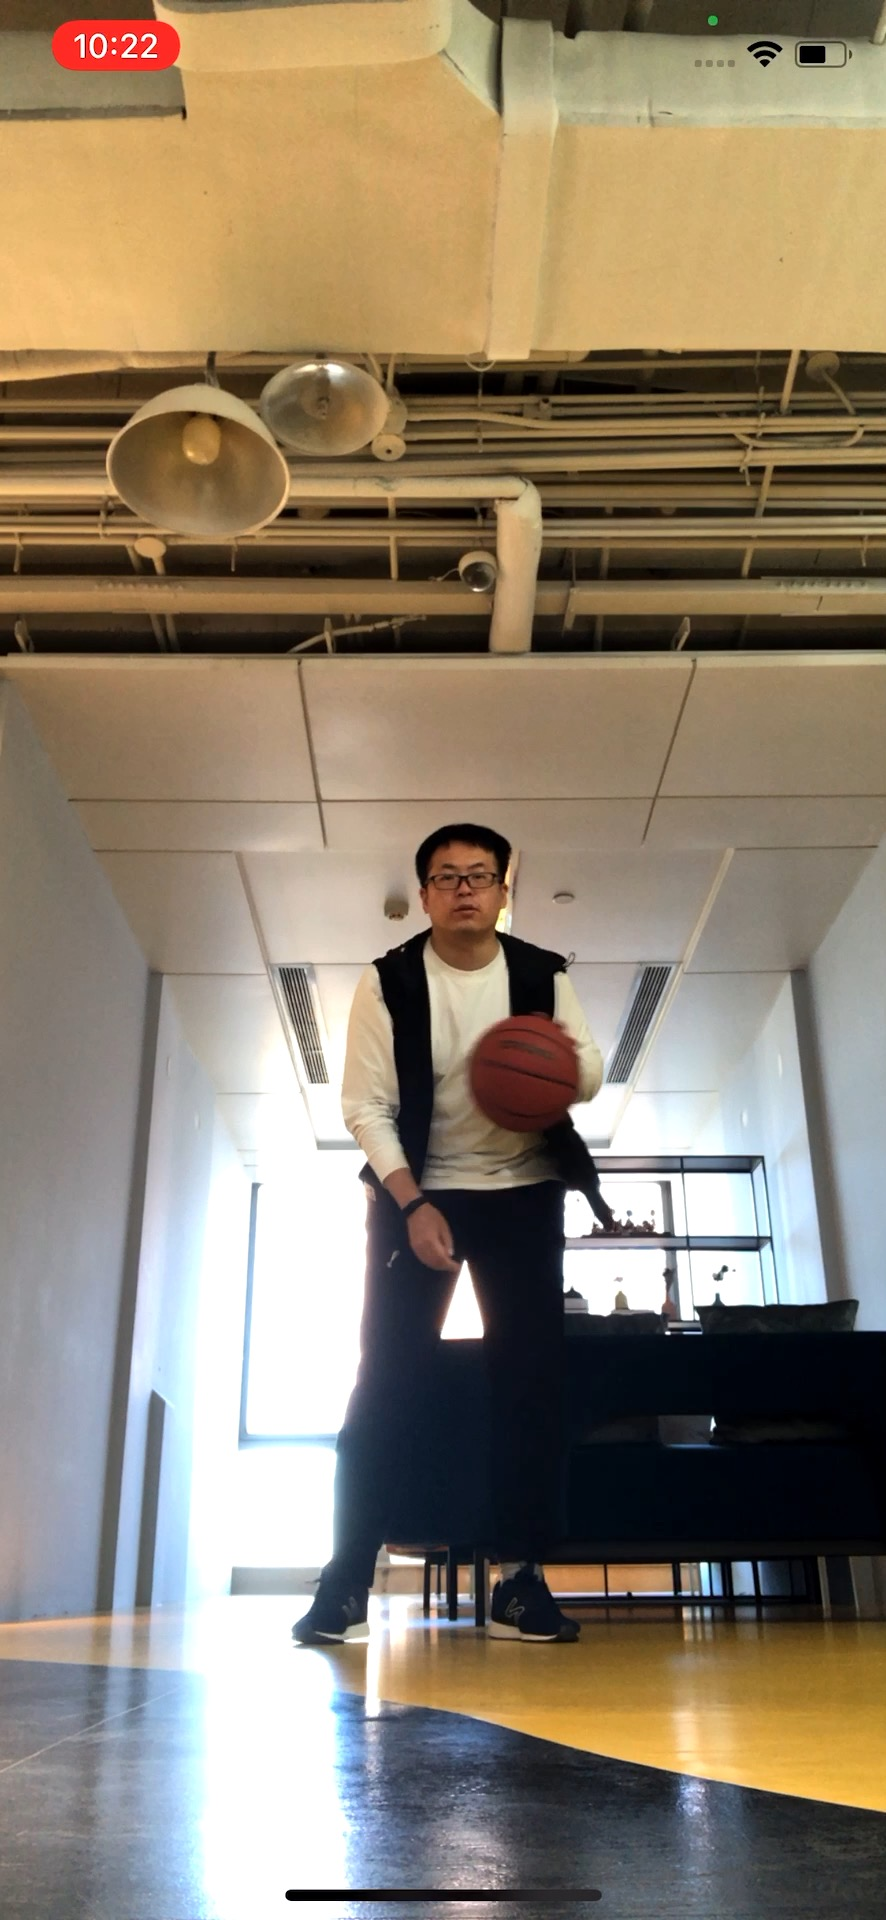ball: (472, 1019, 580, 1131)
